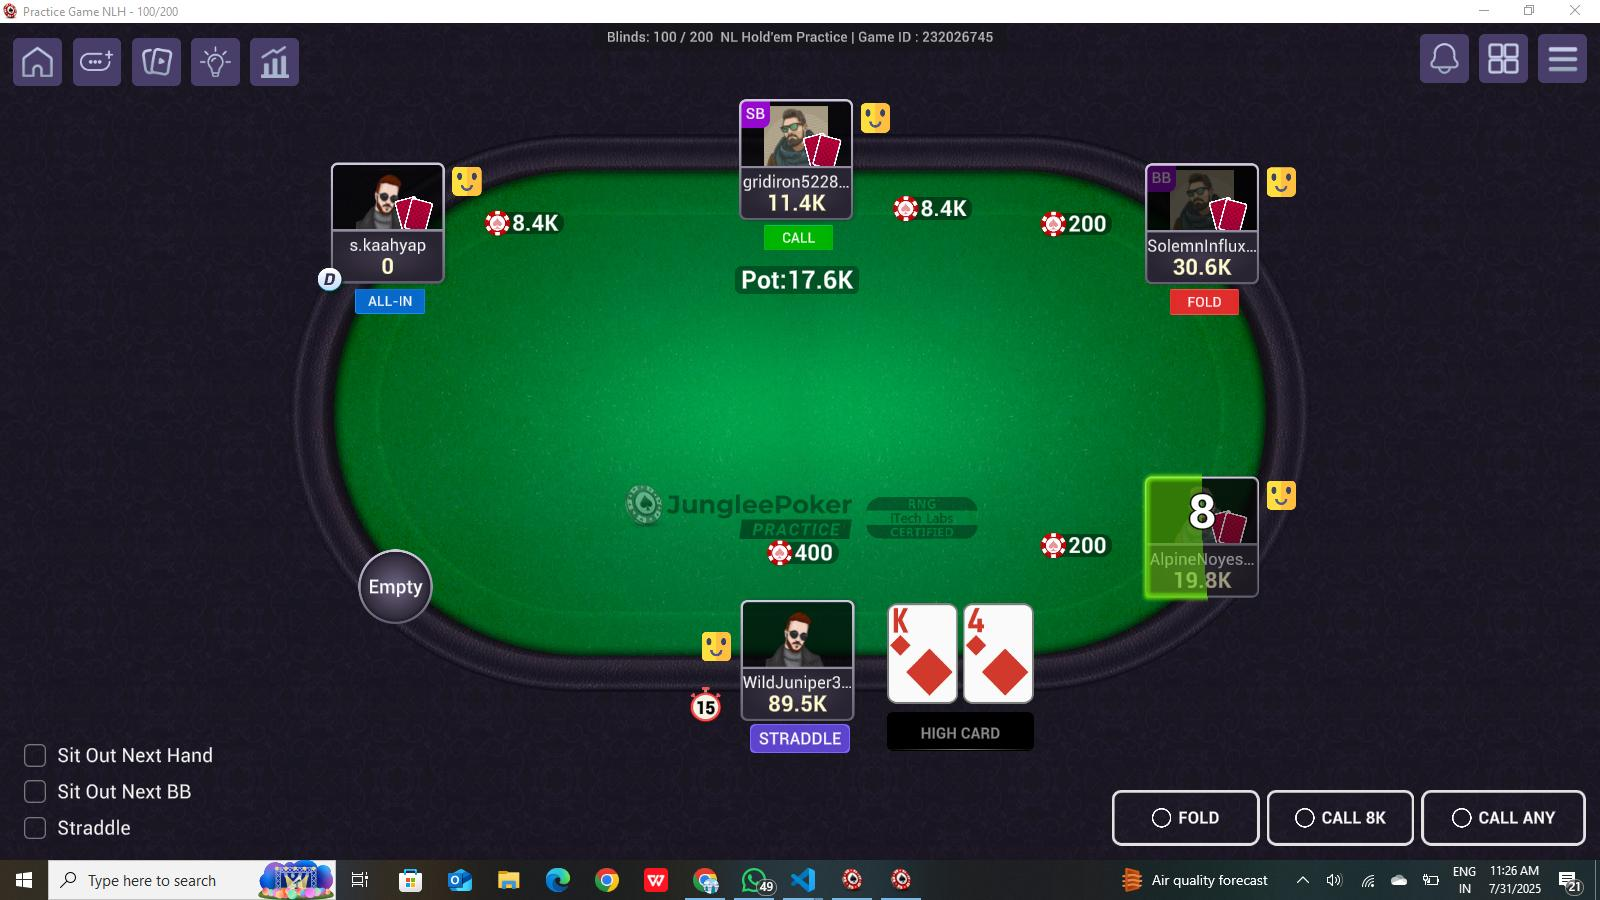card1_rank: (888, 603, 933, 640)
card1_suite_diamond: (903, 649, 957, 702)
card2_rank: (964, 603, 1005, 638)
card2_suite_diamond: (984, 640, 1032, 702)
game_id: (852, 26, 1016, 52)
my_bet: (764, 540, 848, 567)
my_stack: (748, 688, 852, 719)
position_BB: (1151, 167, 1178, 191)
position_SB: (742, 100, 777, 126)
total_pot: (733, 264, 862, 297)
villian2_bet: (480, 205, 578, 238)
villian2_name: (333, 233, 445, 255)
villian2_stack: (332, 252, 438, 280)
villian3_bet: (891, 195, 975, 223)
villian3_name: (738, 165, 851, 193)
villian3_stack: (755, 188, 830, 216)
villian4_bet: (1036, 212, 1112, 238)
villian4_name: (1146, 230, 1258, 255)
villian4_stack: (1165, 257, 1243, 285)
villian5_bet: (1038, 529, 1113, 558)
villian5_name: (1145, 546, 1258, 568)
villian5_stack: (1168, 571, 1246, 597)
